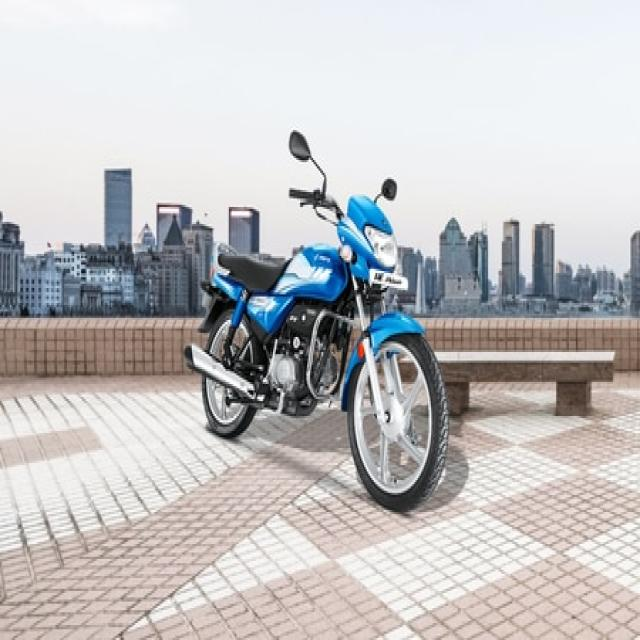two_wheeler: (152, 153, 526, 522)
